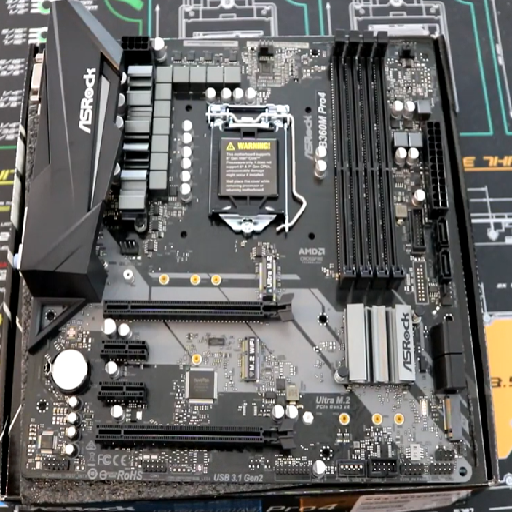CPU: (205, 101, 298, 235)
GPU: (95, 419, 299, 455), (100, 294, 299, 325)
MOTHERBOARD: (7, 7, 500, 494)
RAM: (326, 28, 407, 291)
SSD: (250, 242, 284, 296), (237, 334, 268, 384)
